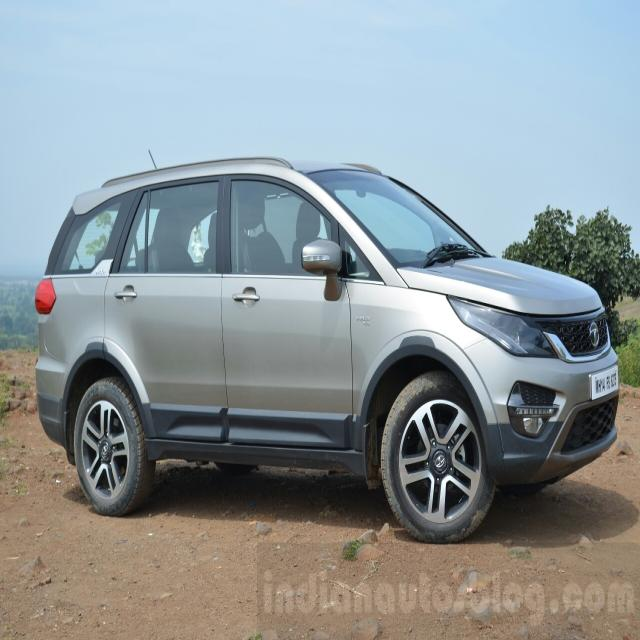Car: (32, 133, 625, 549)
